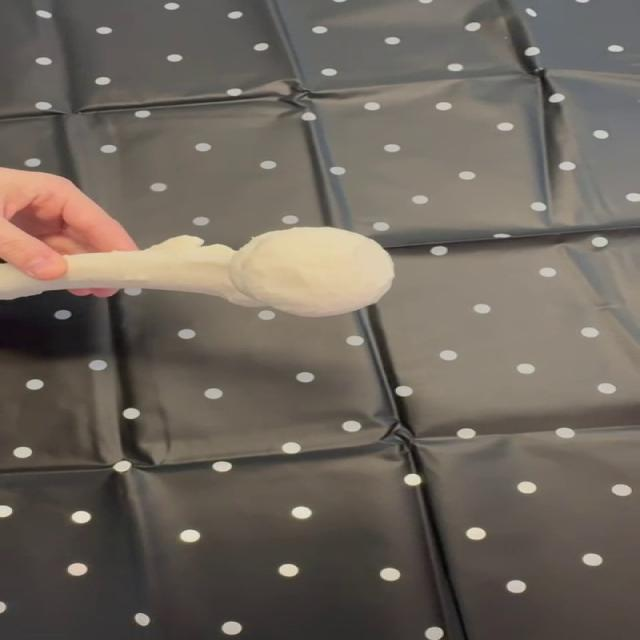bones: (0, 228, 394, 317)
